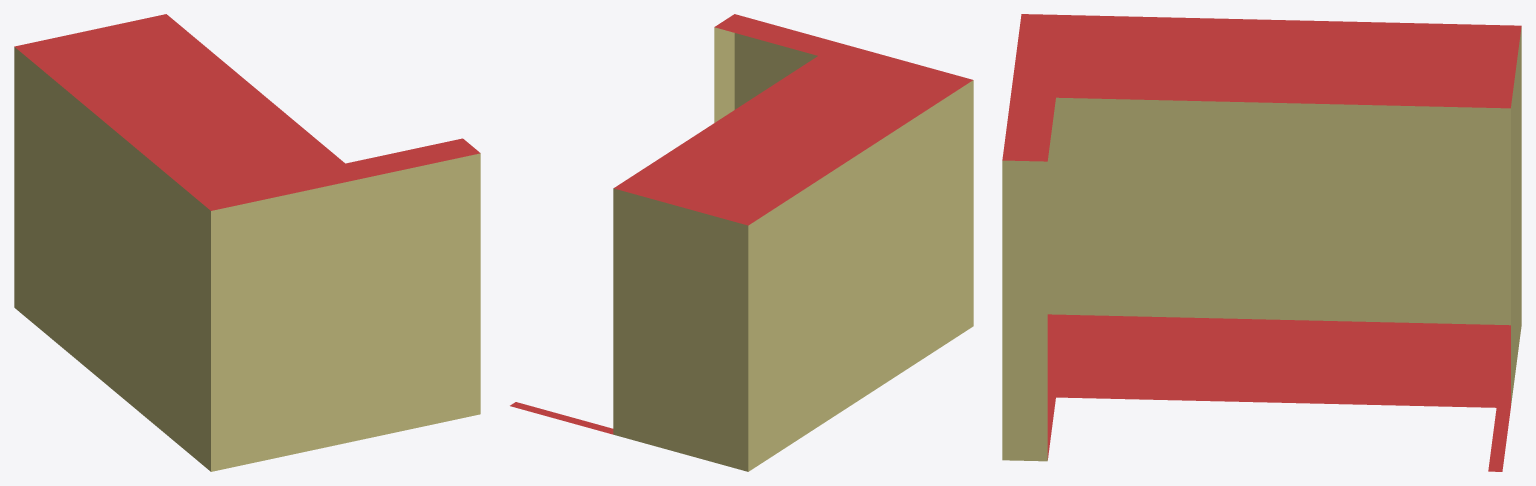
The picture shows the model from 3 angles, left to right: view 1: azimuth 30°, elevation 25°; view 2: azimuth 150°, elevation 25°; view 3: azimuth 270°, elevation 25°; orthographic projection. The views are drawn at different scales.
Size of the model in its own units: 6.57 by 9.12 by 5.81.
